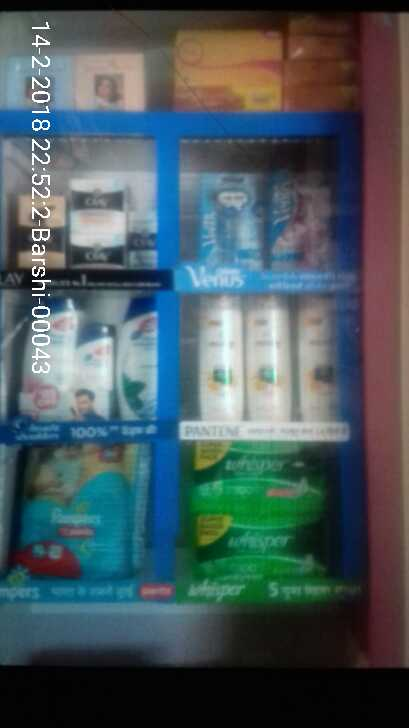venus: (263, 175, 333, 278), (193, 175, 263, 278)
